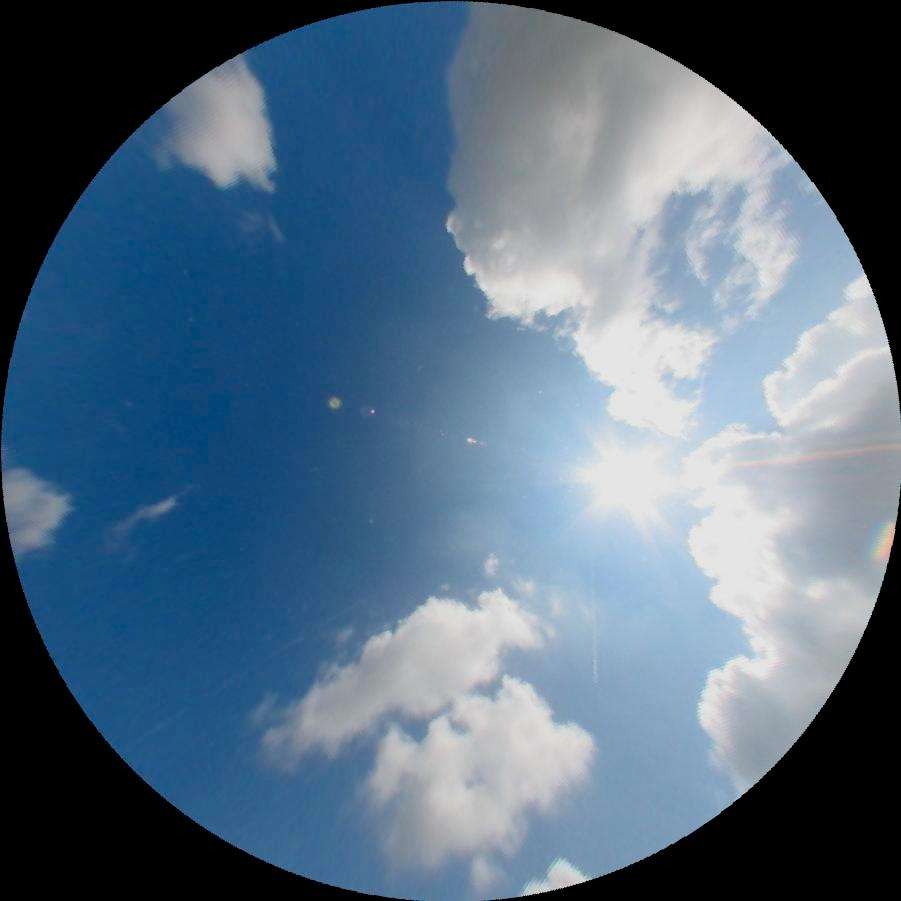contrail young: (586, 546, 597, 684), (694, 360, 709, 404)
sun: (588, 450, 660, 510)
